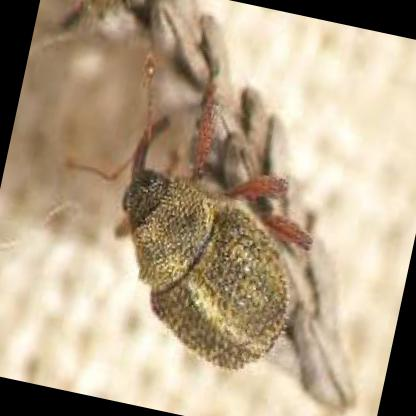ash weevil: (118, 80, 318, 371)
